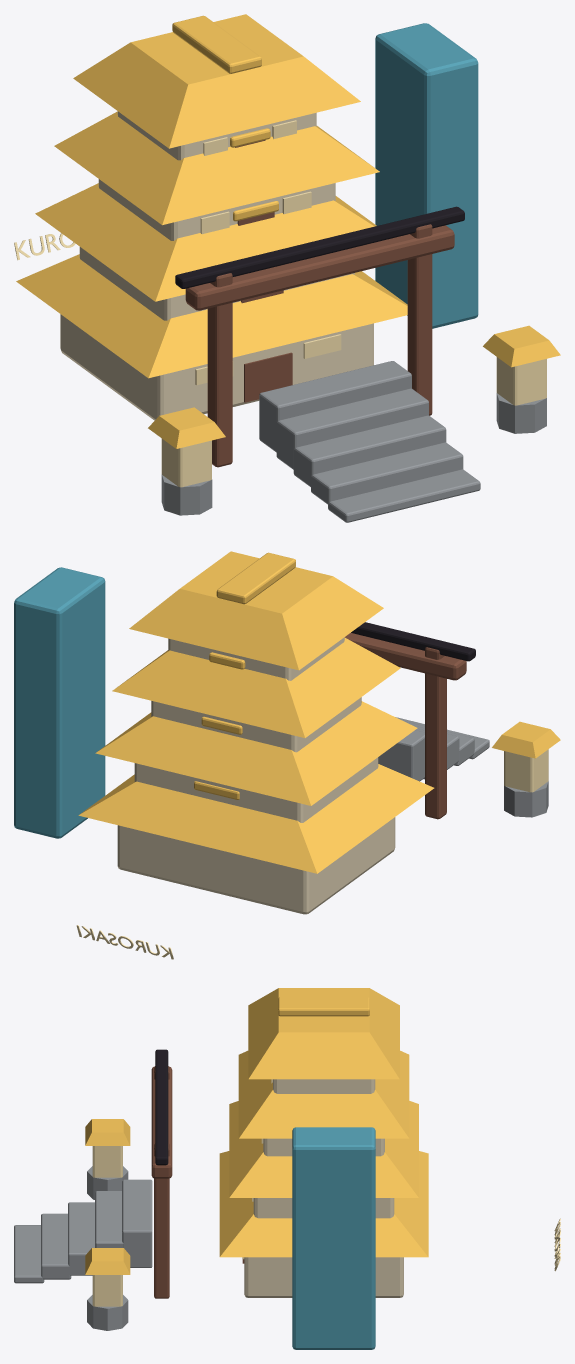
File: 11_kurosaki.glb
3 views of the same model, one above another, from view 1: azimuth 30°, elevation 25°; view 2: azimuth 150°, elevation 25°; view 3: azimuth 270°, elevation 25° (orthographic). The views are drawn at different scales.
Visible parts, largest first — view 1: tier_0_body.004; view 2: tier_0_body.004, KurosakiLabel; view 3: tier_0_body.004.
Part boxes in pixels (<box>): tier_0_body.004: <box>16,14,560,522</box>; tier_0_body.004: <box>14,551,560,914</box>; KurosakiLabel: <box>76,925,173,959</box>; tier_0_body.004: <box>14,988,428,1349</box>.
Bounding box in the file's own units: 8.06 × 5.73 × 11.13.
